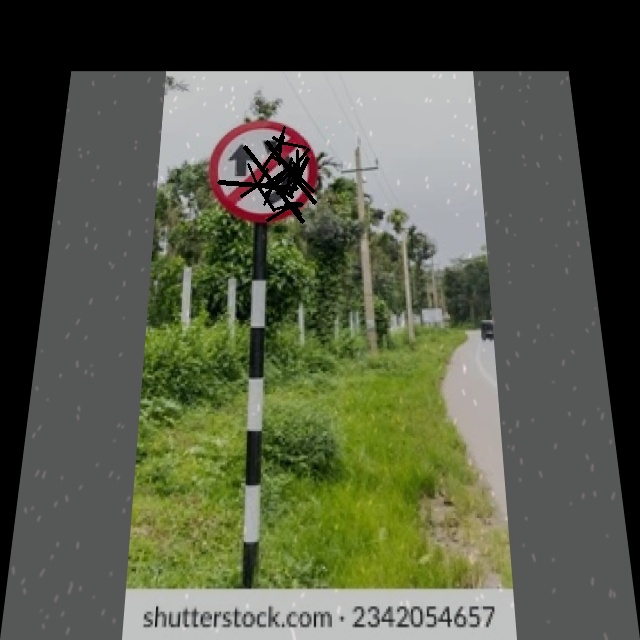Overtaking_Prohibited: (210, 119, 317, 222)
